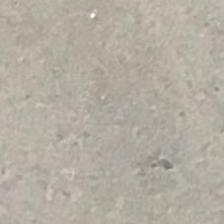Non_Crack: (27, 43, 196, 210)
